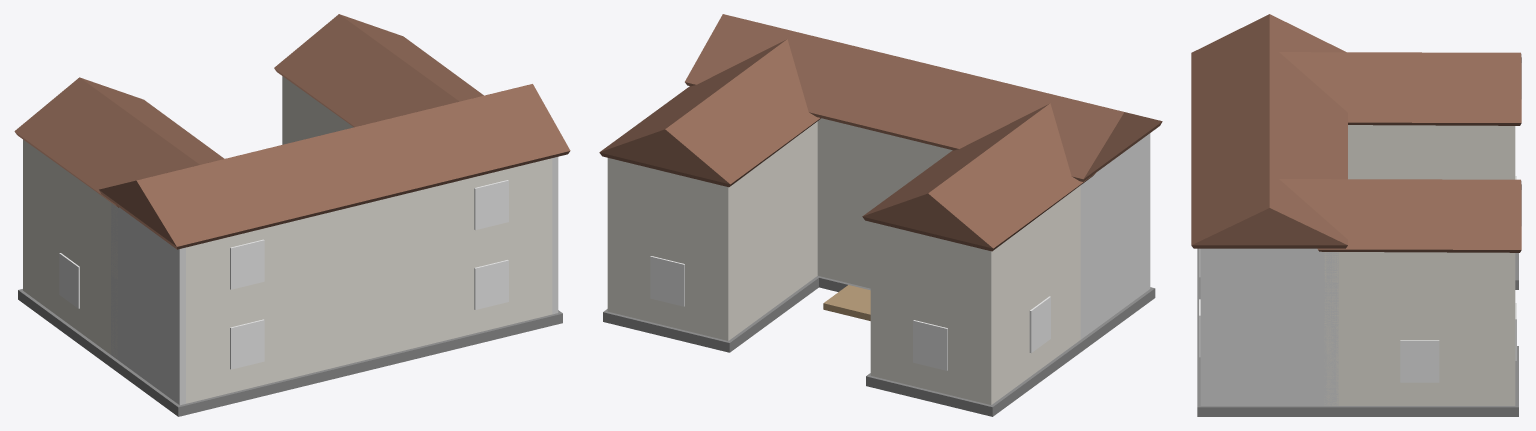
The model's file is u-shaped-model-two-floor.glb.
The picture shows the model from 3 angles, left to right: view 1: azimuth 30°, elevation 25°; view 2: azimuth 150°, elevation 25°; view 3: azimuth 270°, elevation 25°; orthographic projection.
Parts seen in each view (by area): view 1: Roof_Center, Back_Wall_Center_F1, Back_Wall_Center_F2, Roof_Left, Roof_Right, Foundation_U_Shaped, Left_Outer_Wall_F2, Left_Outer_Wall_F1, Left_End_Center_F1, Left_End_Center_F2, Right_Inner_Wall_F2, Window_Center_F1_Back_L_Frame (+6 smaller); view 2: Roof_Center, Roof_Left, Roof_Right, Right_End_Wall_F2, Right_End_Wall_F1, Left_End_Wall_F2, Left_End_Wall_F1, Right_Inner_Wall_F1, Front_Wall_Center_F2, Left_Outer_Wall_F2, Right_Inner_Wall_F2, Left_Outer_Wall_F1 (+11 smaller); view 3: Roof_Center, Roof_Right, Roof_Left, Right_Outer_Wall_F2, Right_Outer_Wall_F1, Right_End_Center_F1, Right_End_Center_F2, Left_Inner_Wall_F2, Foundation_U_Shaped, Window_Right_F1_Outer_Frame, Left_End_Wall_F2, Right_End_Wall_F1.
Part boxes in pixels (<box>): Roof_Center: <box>99,84,570,249</box>; Back_Wall_Center_F1: <box>186,234,552,403</box>; Back_Wall_Center_F2: <box>186,158,552,323</box>; Roof_Left: <box>14,77,224,207</box>; Roof_Right: <box>274,14,483,127</box>; Foundation_U_Shaped: <box>18,289,562,416</box>; Left_Outer_Wall_F2: <box>23,140,117,279</box>; Left_Outer_Wall_F1: <box>23,211,117,359</box>; Left_End_Center_F1: <box>111,275,185,405</box>; Left_End_Center_F2: <box>111,203,185,325</box>; Right_Inner_Wall_F2: <box>286,79,353,143</box>; Window_Center_F1_Back_L_Frame: <box>230,319,264,369</box>; Roof_Center: <box>685,14,1162,181</box>; Roof_Left: <box>862,103,1095,251</box>; Roof_Right: <box>599,39,820,187</box>; Right_End_Wall_F2: <box>607,158,731,259</box>; Right_End_Wall_F1: <box>607,232,731,340</box>; Left_End_Wall_F2: <box>871,223,994,323</box>; Left_End_Wall_F1: <box>870,295,994,404</box>; Right_Inner_Wall_F1: <box>722,195,817,340</box>; Front_Wall_Center_F2: <box>817,118,952,208</box>; Left_Outer_Wall_F2: <box>985,185,1080,324</box>; Right_Inner_Wall_F2: <box>722,121,817,259</box>; Left_Outer_Wall_F1: <box>985,259,1080,404</box>; Roof_Center: <box>1191,14,1347,248</box>; Roof_Right: <box>1279,179,1521,252</box>; Roof_Left: <box>1279,52,1521,125</box>; Right_Outer_Wall_F2: <box>1324,252,1515,325</box>; Right_Outer_Wall_F1: <box>1324,326,1515,405</box>; Right_End_Center_F1: <box>1200,326,1338,405</box>; Right_End_Center_F2: <box>1200,248,1338,325</box>; Left_Inner_Wall_F2: <box>1348,125,1515,179</box>; Foundation_U_Shaped: <box>1197,248,1518,416</box>; Window_Right_F1_Outer_Frame: <box>1400,340,1439,382</box>; Left_End_Wall_F2: <box>1508,126,1515,179</box>; Right_End_Wall_F1: <box>1508,326,1515,405</box>.
Size of the model in its own units: 12.98 by 6.62 by 9.35.
